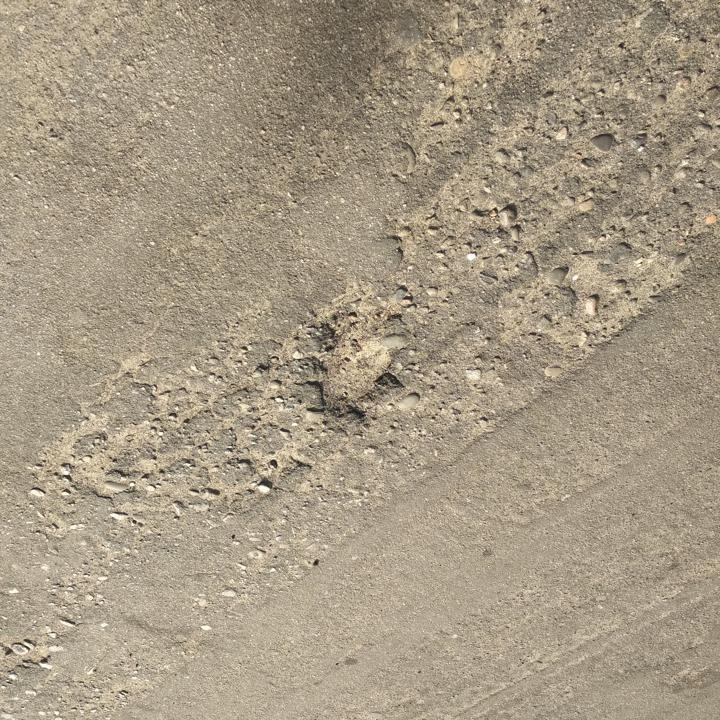pothole: (311, 302, 409, 422), (240, 441, 307, 500)
